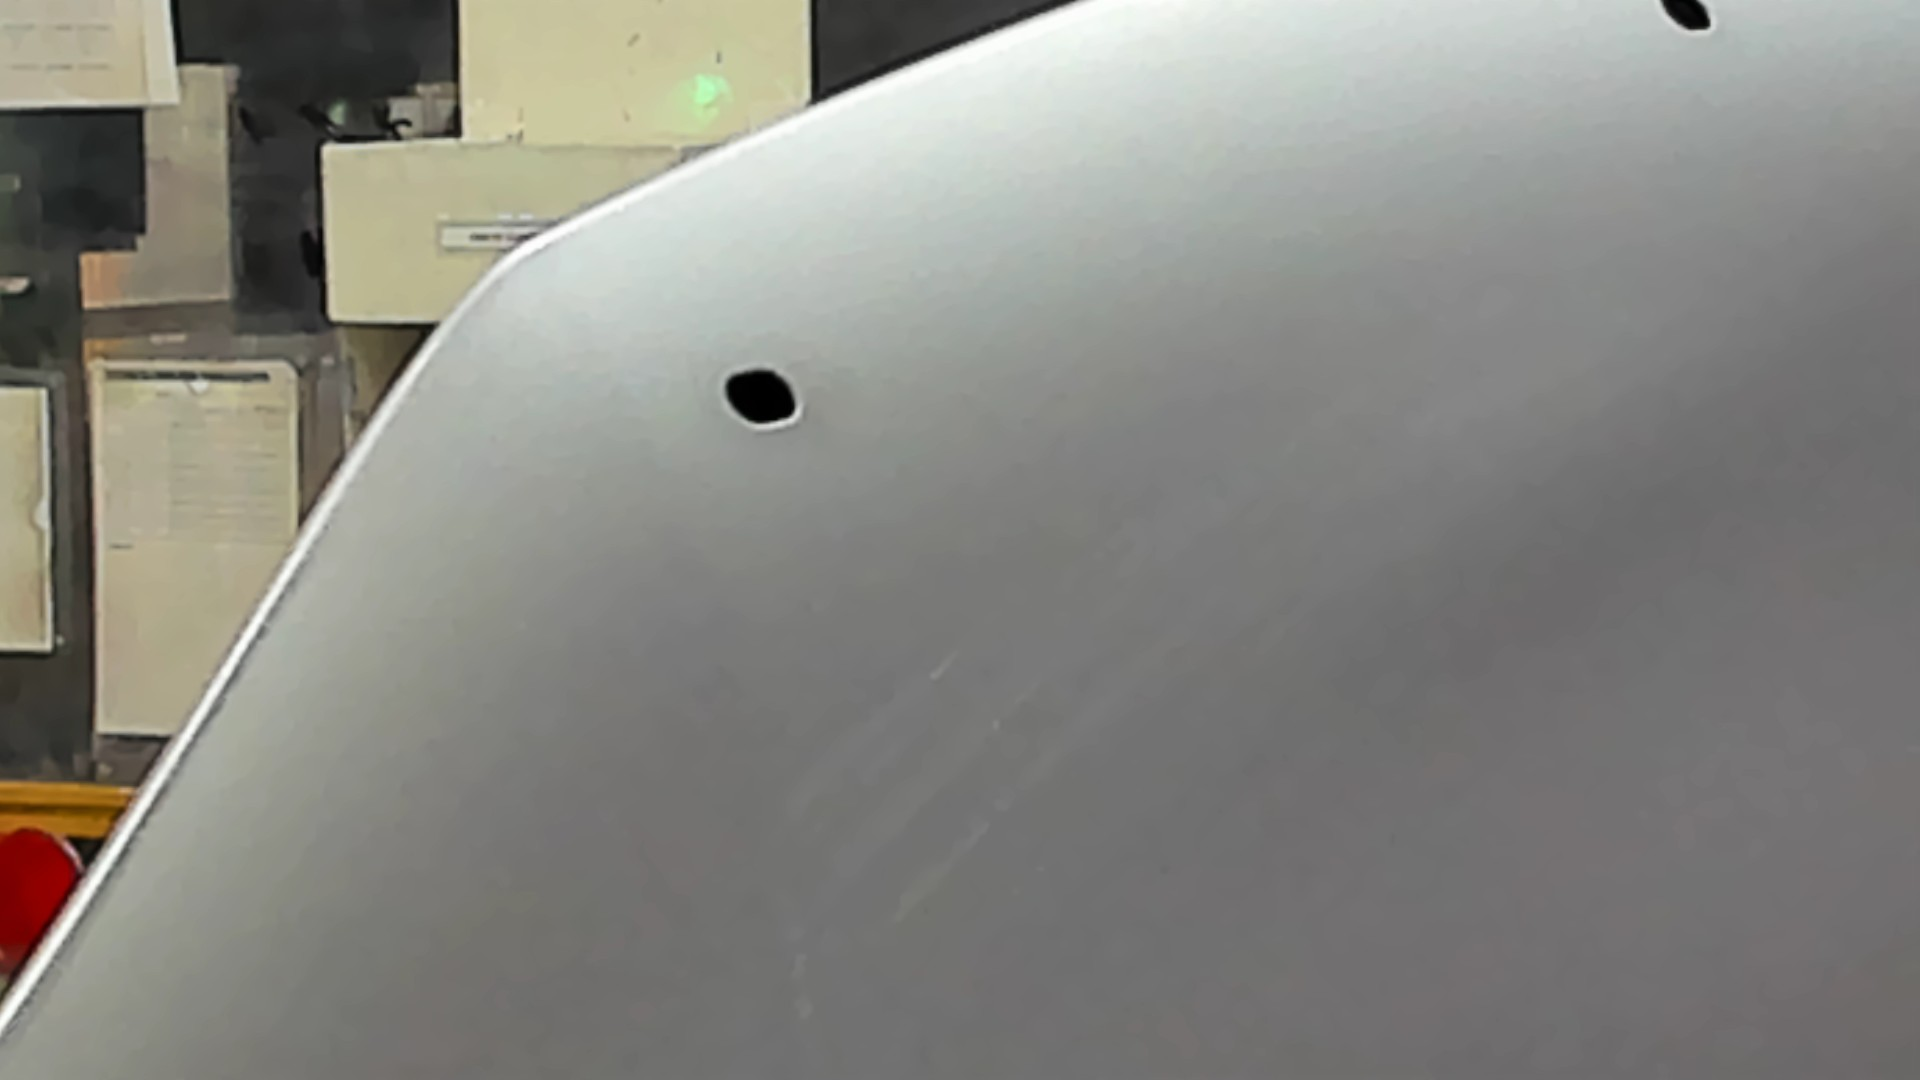chico: (709, 357, 816, 438), (1639, 1, 1735, 54)
